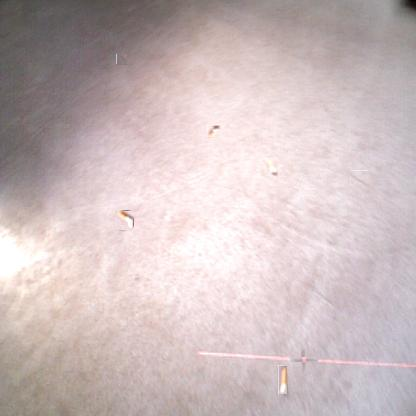dirty: (115, 211, 133, 229), (278, 365, 287, 394), (265, 158, 278, 175), (207, 125, 220, 137)
mark: (295, 351, 313, 368), (348, 170, 368, 185), (117, 54, 127, 65), (134, 275, 142, 282)
